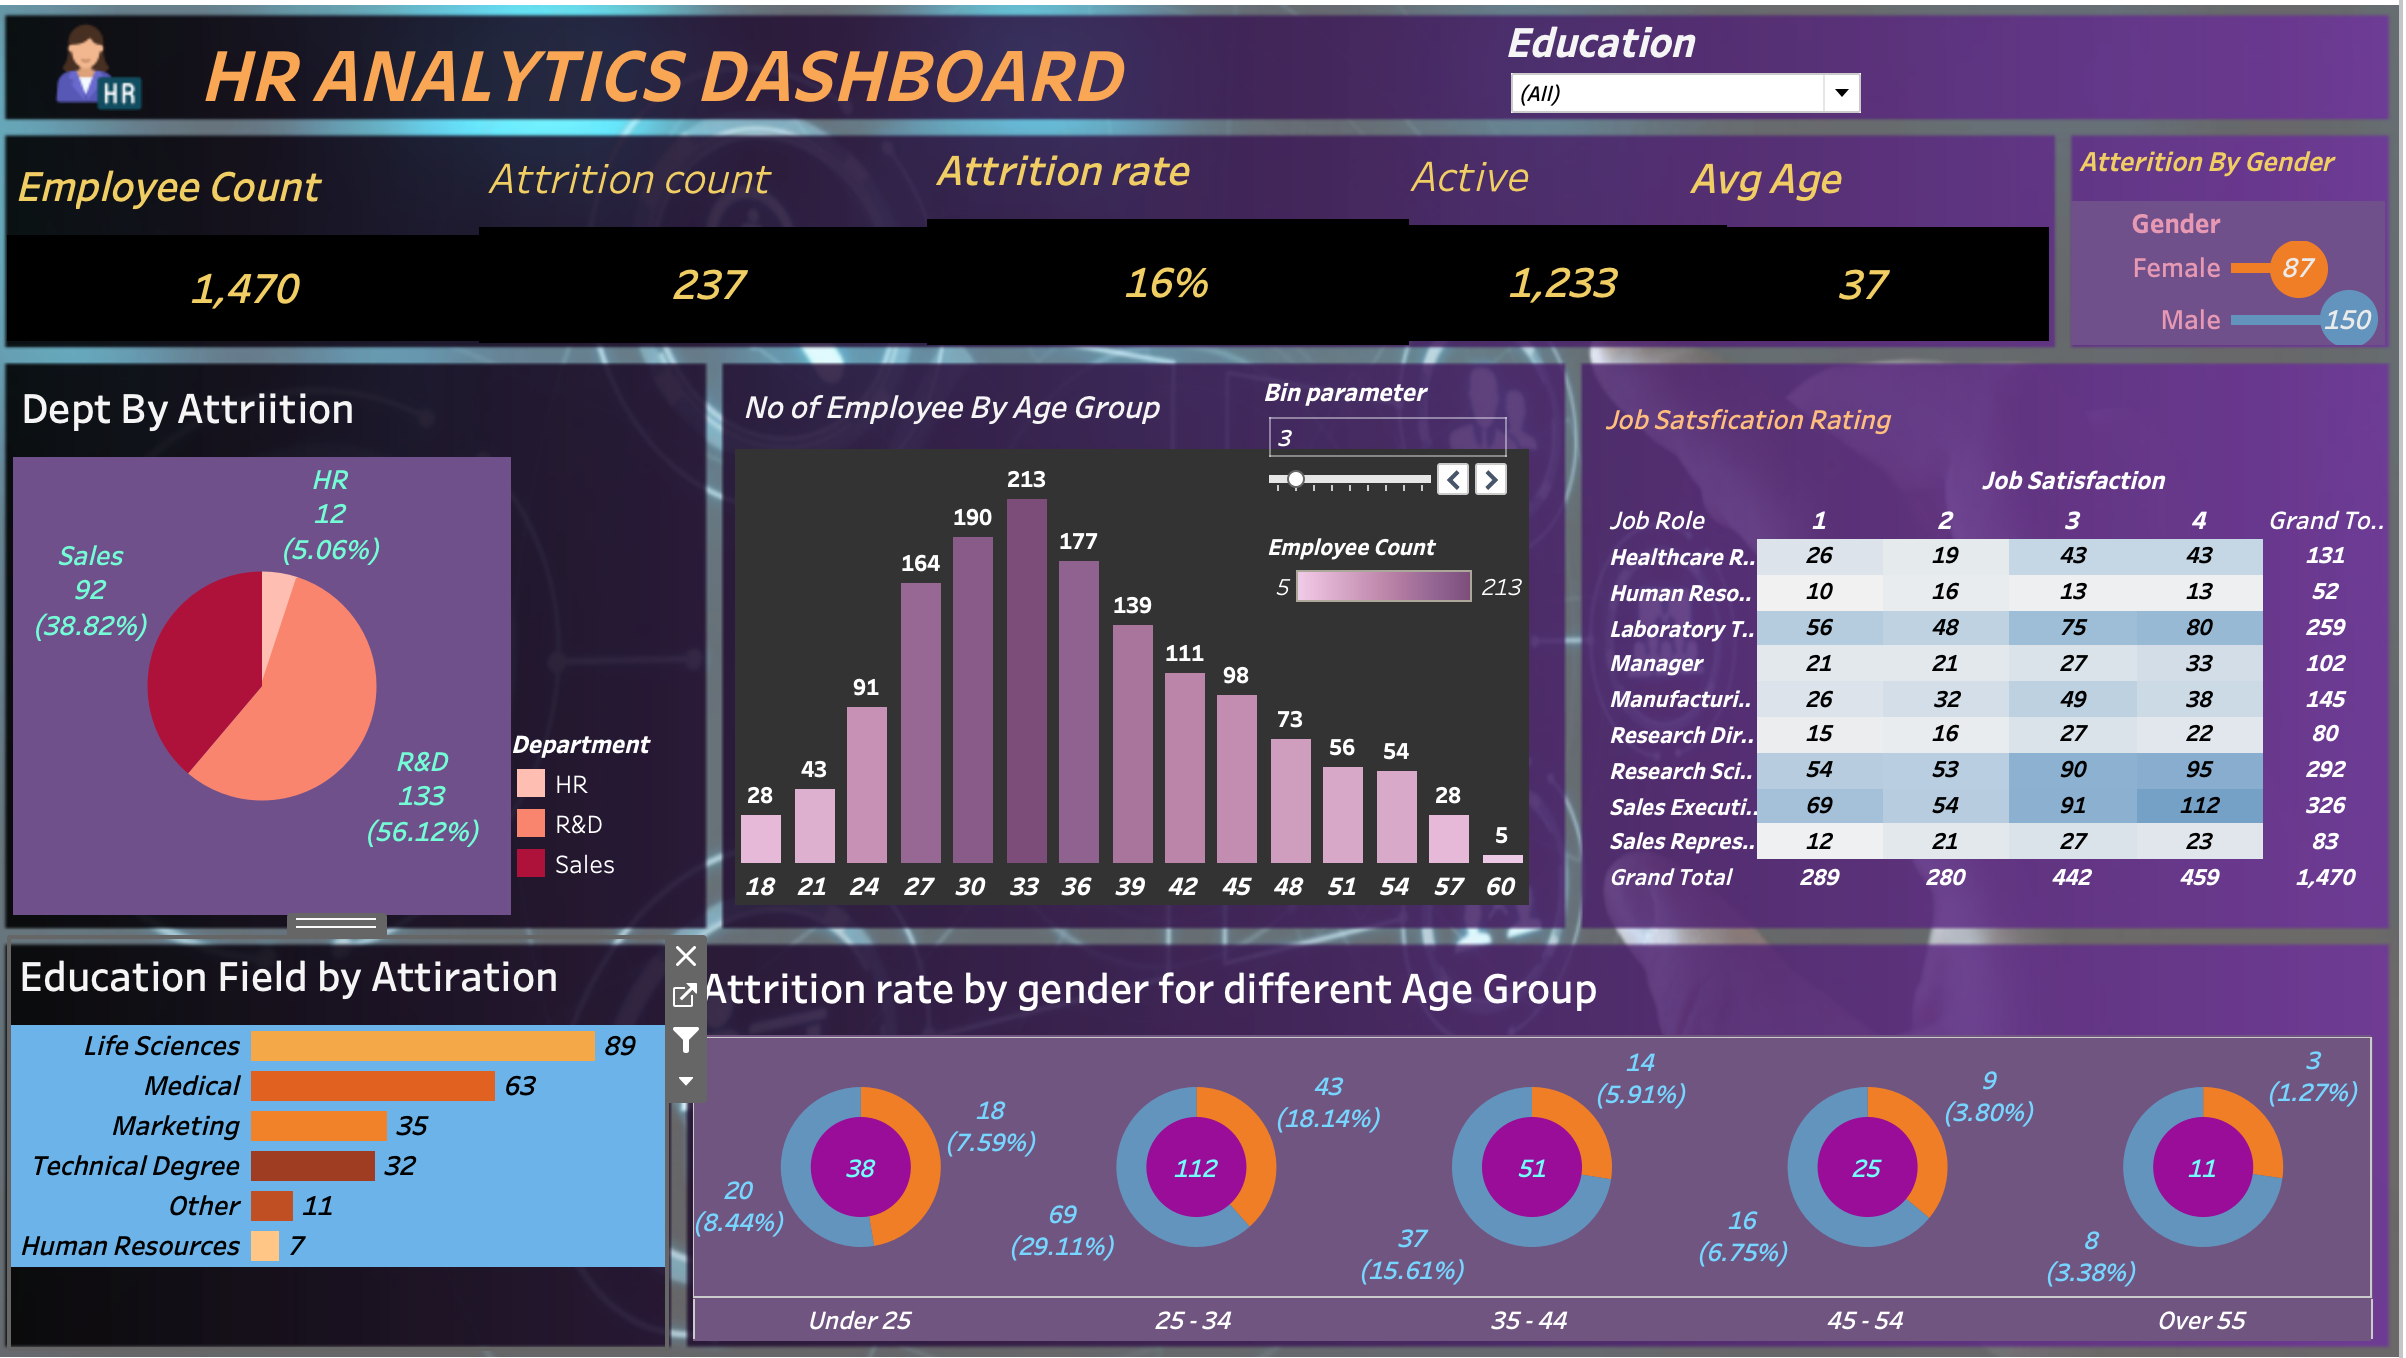

This screenshot's page, from the dashboard's own definition file:
{"tool":"tableau","page":{"name":"Dashboard 1","canvas":[1000,1000],"units":"permille","ordinal":0},"visuals":[{"type":"filter","title":"Employee Count","param":"[federated.1dirq7o0zi4xnn137dsfv1fklsnm].[none:Education:nk]","box":[612.7,74.2,147.3,69]},{"type":"text","box":[5.8,77.4,967.8,71.8]},{"type":"image","param":"Image/hr-manager.png","box":[6.5,80.7,68.8,57.3]},{"type":"worksheet","title":"Atterition By Gender","mark":"Automatic","rows":["Gender"],"cols":["Calculation_673710413617184768","Calculation_673710413617184768"],"box":[843,153.7,127.8,136.7]},{"type":"worksheet","title":"Avg Age","mark":"Automatic","box":[686.7,156.2,146.5,135.4]},{"type":"worksheet","title":"Employee Count","mark":"Automatic","box":[3.2,162.8,195.3,125]},{"type":"worksheet","title":"Attrition count","mark":"Automatic","box":[199.3,162.8,184.7,126.3]},{"type":"worksheet","title":"Active ","mark":"Automatic","box":[573.6,162.8,129.4,125]},{"type":"worksheet","title":"Attrition rate","mark":"Automatic","box":[384.1,165.4,189.6,125]},{"type":"worksheet","title":"Dept By Attriition","mark":"Pie","box":[5.8,307.6,202.5,353.6]},{"type":"parameter","param":"[Parameters].[Parameter 1]","box":[514.2,309.9,101.7,109.4]},{"type":"worksheet","title":"No of Employee By Age Group","mark":"Automatic","rows":["Employee Count"],"cols":["Age (bin)"],"box":[299.2,311.2,323.4,344.4]},{"type":"worksheet","title":"Job Satsfication Rating","mark":"Square","rows":["Job Role"],"cols":["Job Satisfaction"],"box":[650.1,321.6,322.2,326.8]},{"type":"legend","title":"No of Employee By Age Group","param":"[federated.1dirq7o0zi4xnn137dsfv1fklsnm].[sum:Employee Count:qk]","box":[515.9,411.5,108.2,70.3]},{"type":"legend","title":"Dept By Attriition","param":"[federated.1dirq7o0zi4xnn137dsfv1fklsnm].[none:Department:nk]","box":[208.3,539.1,79.7,119.8]},{"type":"worksheet","title":"Education Field by Attiration","mark":"Automatic","rows":["Education Field"],"cols":["Calculation_673710413617184768"],"box":[4.9,677.1,266.1,265.6]},{"type":"worksheet","title":"Attrition rate by gender for different Age Group","mark":"Pie","rows":["Calculation_806355496493277186","Calculation_806355496493342724"],"cols":["CF_age band"],"box":[282.3,684.9,683.5,253.9]}]}

Visuals, with their boxes on the dashboard's canvas, which has no fixed pixel size, in thousandths of its width and height (x1, y1, x2, y2). These are canvas units, not pixel positions in the 2406x1358 screenshot, which may show the page scaled, cropped or inside an application window:
"Employee Count" filter: locate(613, 74, 760, 143)
text: locate(6, 77, 974, 149)
image: locate(6, 81, 75, 138)
"Atterition By Gender" worksheet: locate(843, 154, 971, 290)
"Avg Age" worksheet: locate(687, 156, 833, 292)
"Employee Count" worksheet: locate(3, 163, 198, 288)
"Attrition count" worksheet: locate(199, 163, 384, 289)
"Active " worksheet: locate(574, 163, 703, 288)
"Attrition rate" worksheet: locate(384, 165, 574, 290)
"Dept By Attriition" worksheet (Pie marks): locate(6, 308, 208, 661)
parameter: locate(514, 310, 616, 419)
"No of Employee By Age Group" worksheet: locate(299, 311, 623, 656)
"Job Satsfication Rating" worksheet (Square marks): locate(650, 322, 972, 648)
"No of Employee By Age Group" legend: locate(516, 412, 624, 482)
"Dept By Attriition" legend: locate(208, 539, 288, 659)
"Education Field by Attiration" worksheet: locate(5, 677, 271, 943)
"Attrition rate by gender for different Age Group" worksheet (Pie marks): locate(282, 685, 966, 939)
